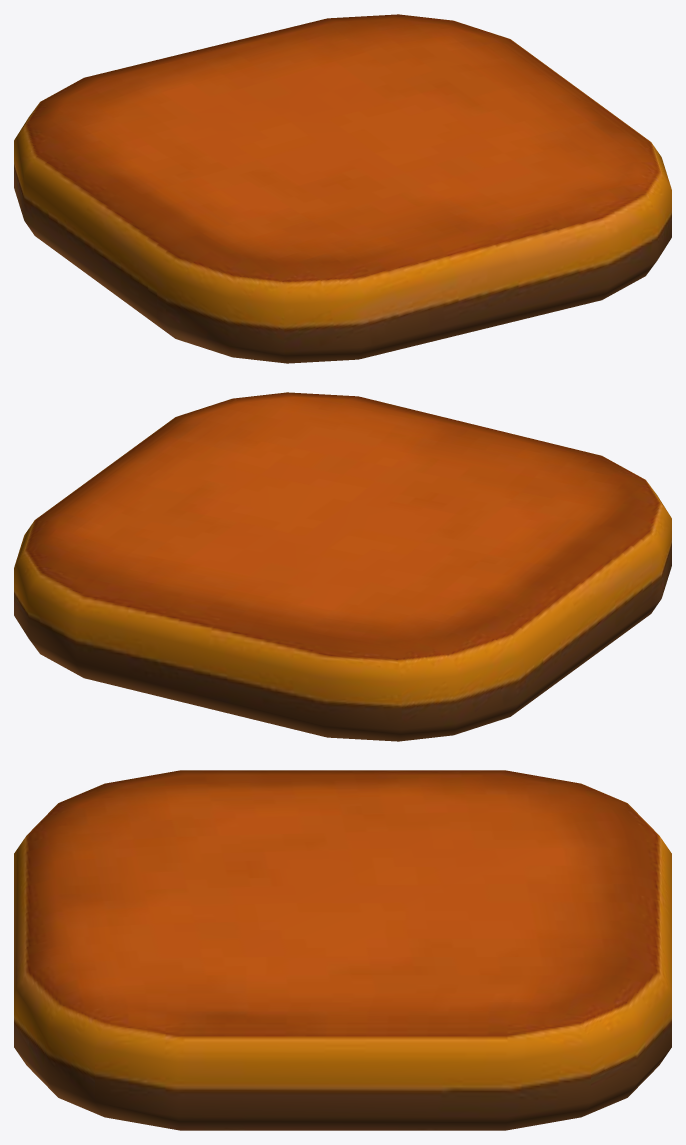
The picture shows the model from 3 angles, top to bottom: view 1: azimuth 30°, elevation 25°; view 2: azimuth 150°, elevation 25°; view 3: azimuth 270°, elevation 25°; orthographic projection. The views are drawn at different scales.
Parts seen in each view (by area): view 1: di; view 2: di; view 3: di.
Boxes of the visible parts, x1,y1,x2,y2 form: di: [14, 14, 671, 363]; di: [14, 392, 671, 741]; di: [14, 770, 671, 1130].
Size of the model in its own units: 1.68 by 0.3079 by 1.68.
